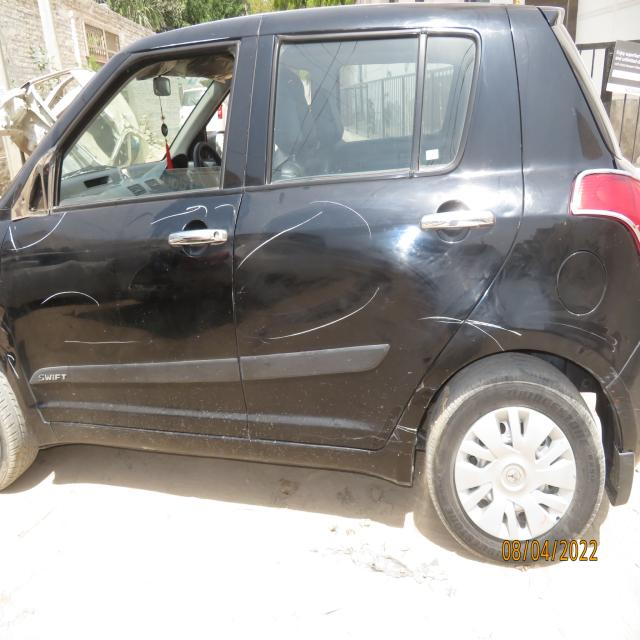damage: (386, 372, 444, 459), (18, 148, 53, 219), (122, 250, 153, 296), (608, 378, 631, 417), (596, 364, 622, 385), (606, 330, 621, 360), (466, 270, 494, 285)
